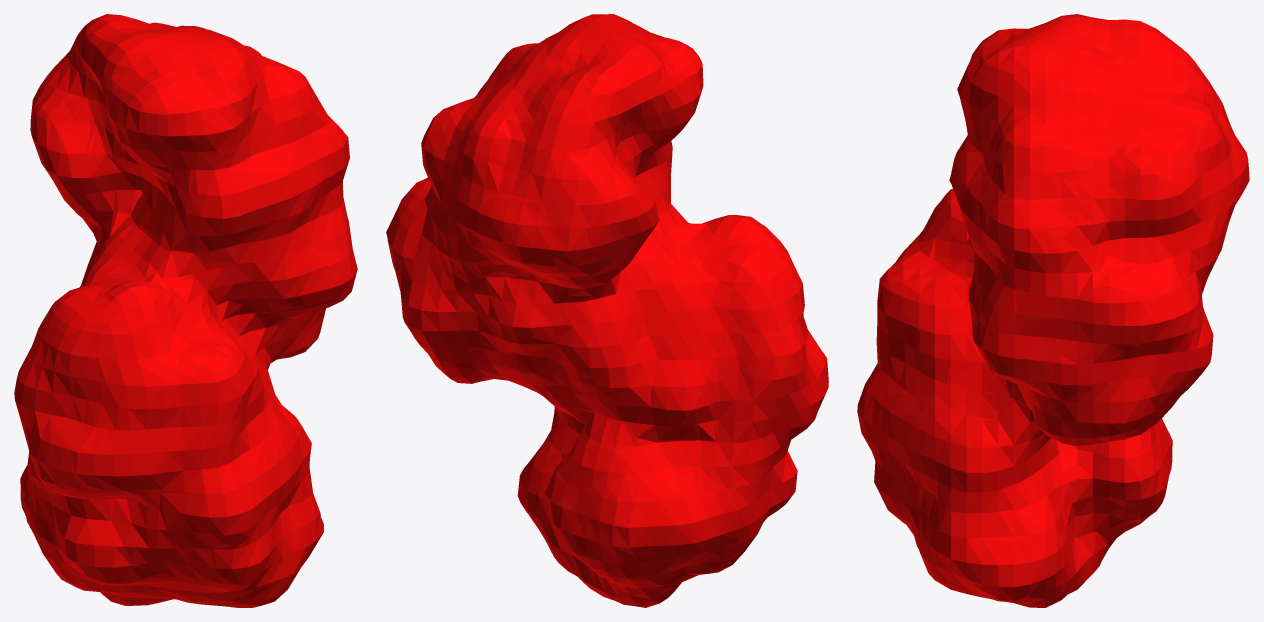
File: qorA_coarse.dae
3 renders of one model, left to right at view 1: azimuth 30°, elevation 25°; view 2: azimuth 150°, elevation 25°; view 3: azimuth 270°, elevation 25°, orthographic.
Visible parts, largest first — view 1: qorA; view 2: qorA; view 3: qorA.
Part boxes in pixels (x1=…): qorA: x1=14, y1=14, x2=357, y2=607; qorA: x1=386, y1=14, x2=828, y2=607; qorA: x1=857, y1=14, x2=1249, y2=607.
Size of the model in its own units: 63.77 by 96.67 by 61.21.
